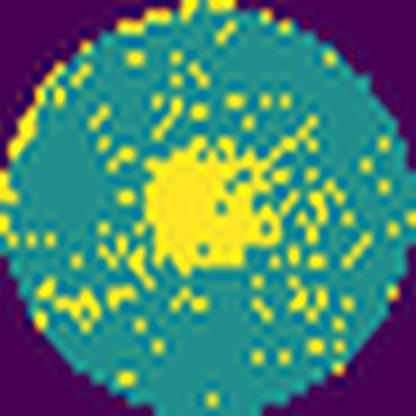Center: (142, 136, 282, 273)
